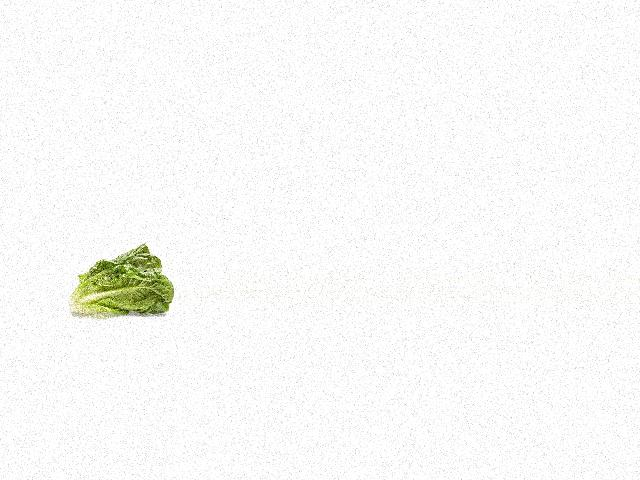lettuce: (64, 243, 174, 331)
